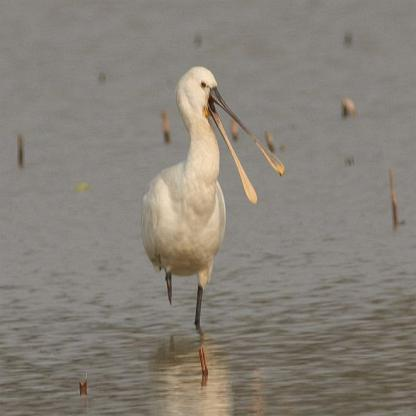Burung: (141, 66, 284, 349)
